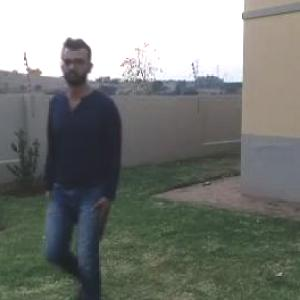follow: (42, 33, 125, 299)
